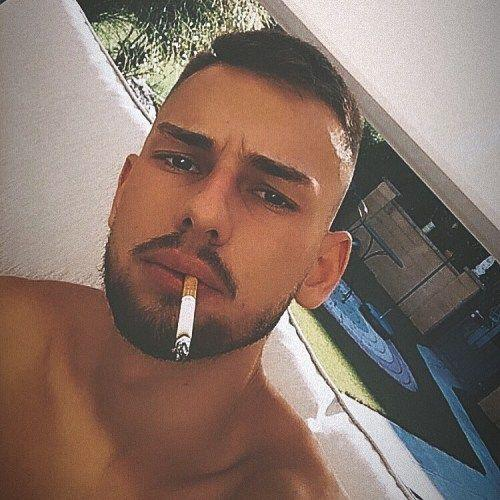cigarette: (174, 273, 199, 360)
